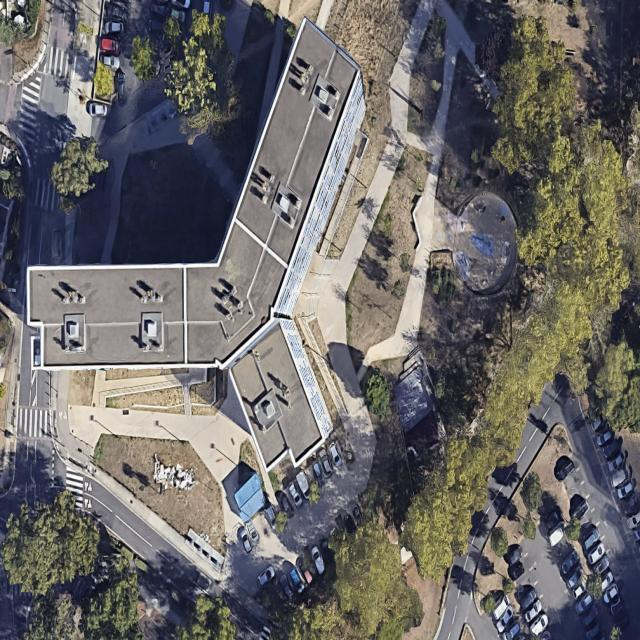immeuble: (0, 13, 531, 550)
